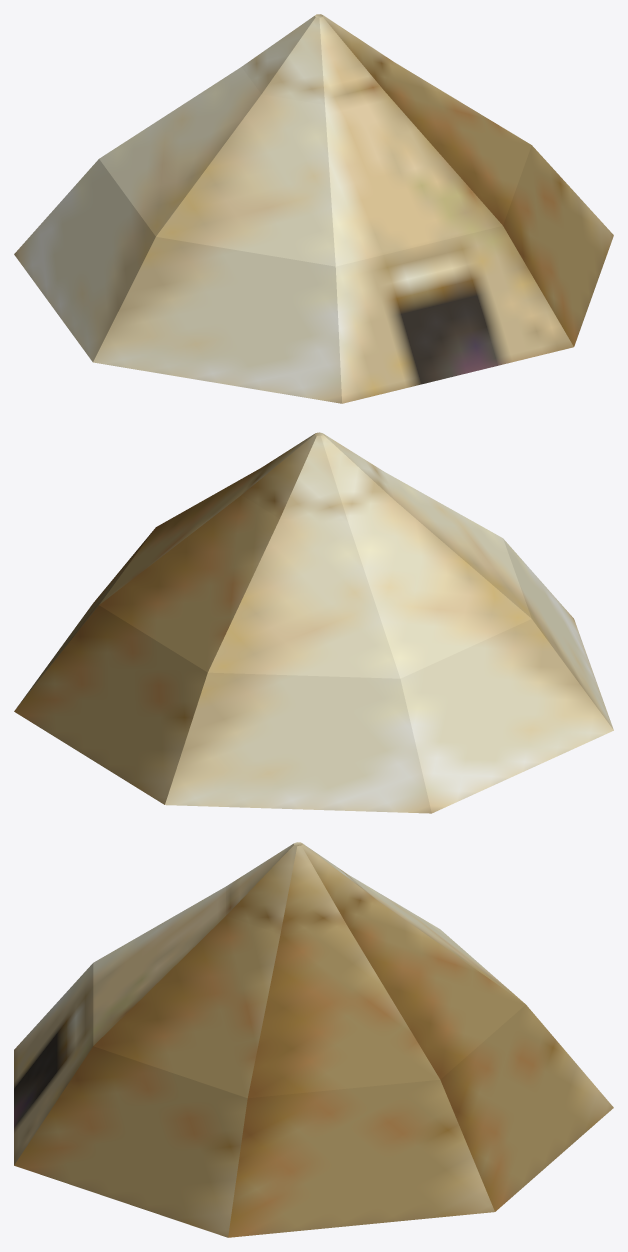
File: Poly_World_Map_Tent_01.obj
The picture shows the model from 3 angles, top to bottom: view 1: azimuth 30°, elevation 25°; view 2: azimuth 150°, elevation 25°; view 3: azimuth 270°, elevation 25°; orthographic projection. The views are drawn at different scales.
Visible parts, largest first — view 1: Grid.006; view 2: Grid.006; view 3: Grid.006.
Boxes of the visible parts, x1=… form: Grid.006: x1=14, y1=14, x2=613, y2=403; Grid.006: x1=14, y1=432, x2=613, y2=813; Grid.006: x1=14, y1=842, x2=613, y2=1237.
Bounding box in the file's own units: 0.7497 × 0.3545 × 0.7309.
Materials: 1 (1 with a texture image).
